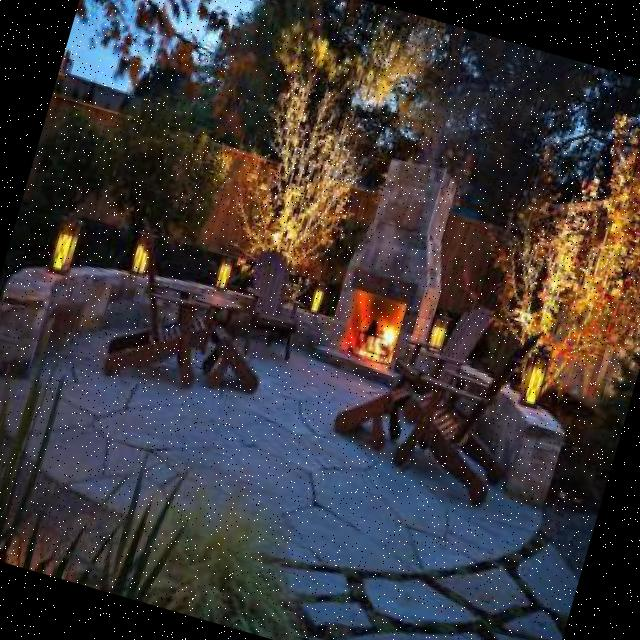fire: (350, 290, 412, 368)
